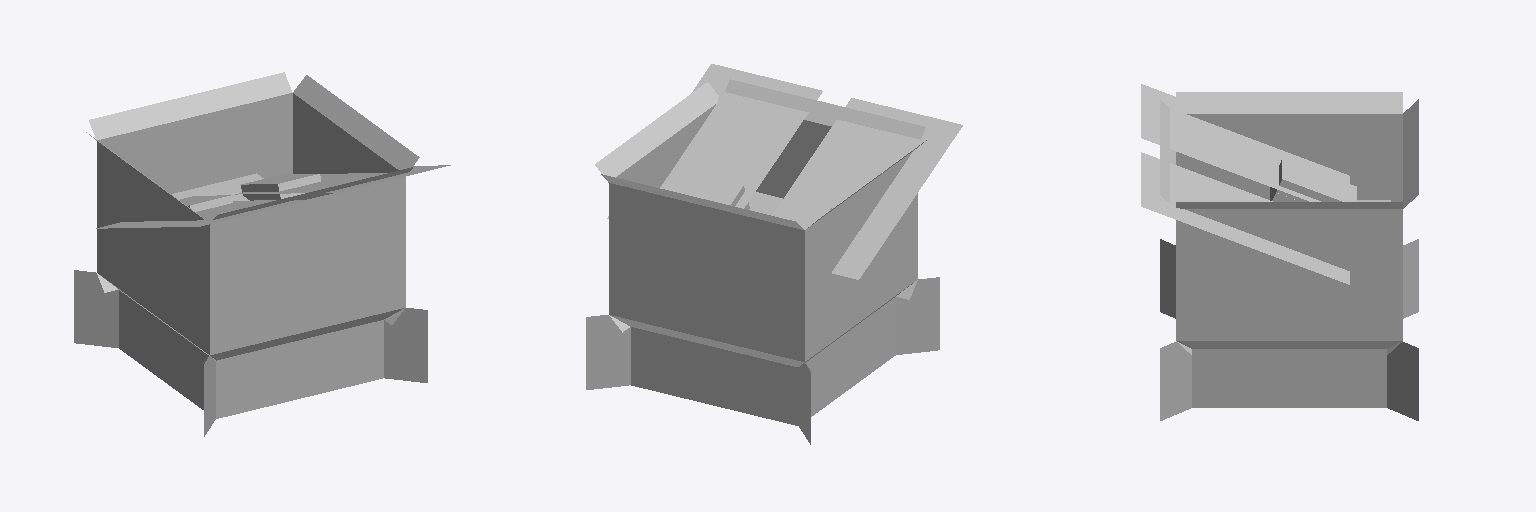
3 views of the same model, side by side, from view 1: azimuth 30°, elevation 25°; view 2: azimuth 150°, elevation 25°; view 3: azimuth 270°, elevation 25° (orthographic).
Parts seen in each view (by area): view 1: cube4, flame_left, flame_right, eye_right, head, eye_left; view 2: cube4, flame_left, flame_right, eye_right, eye_left, head; view 3: cube4, flame_left, flame_right, eye_left.
Part boxes in pixels (x1,y1,x2,y2): cube4: (74,72,427,436); flame_left: (96,199,310,228); flame_right: (235,165,450,194); eye_right: (241,174,320,199); head: (172,173,263,200); eye_left: (180,195,232,211); cube4: (586,79,939,444); flame_left: (772,98,962,279); flame_right: (607,64,822,218); eye_right: (689,176,744,206); eye_left: (777,197,831,229); head: (749,192,782,215); cube4: (1160,92,1418,420); flame_left: (1141,84,1349,201); flame_right: (1141,152,1349,284); eye_left: (1276,159,1356,201).
Size of the model in its own units: 1.12 by 0.9451 by 1.07.